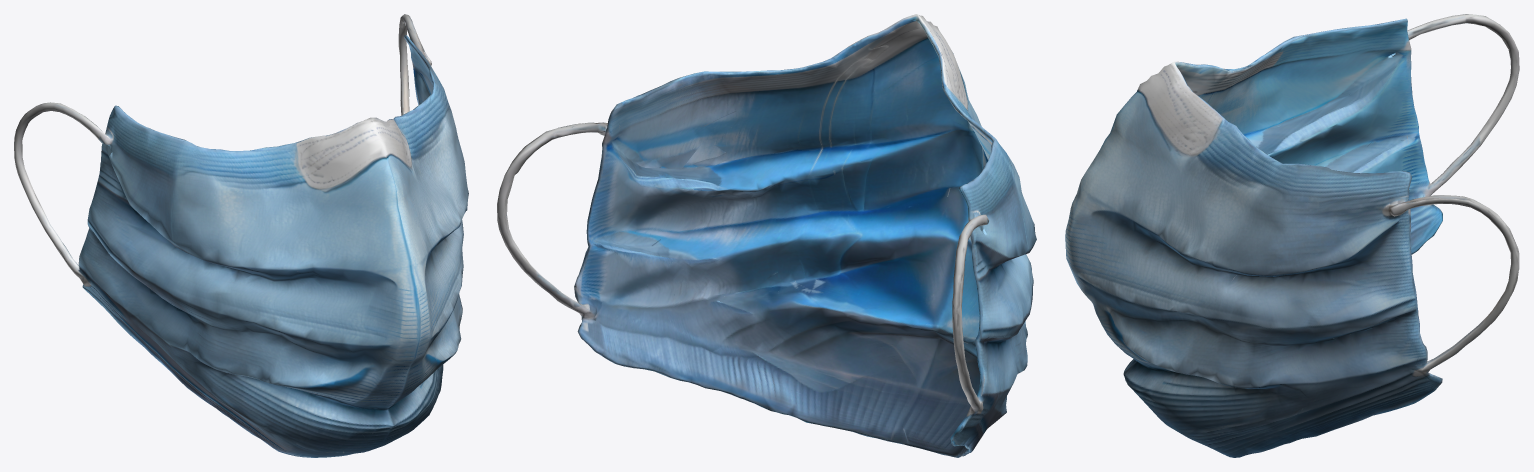
File: Meshy_AI__Hyperrealistic_3D_re_1225112828_texture.glb
3 views of the same model, side by side, from view 1: azimuth 30°, elevation 25°; view 2: azimuth 150°, elevation 25°; view 3: azimuth 270°, elevation 25° (orthographic). The views are drawn at different scales.
Size of the model in its own units: 2 by 1.71 by 1.87.
1 material, 1 textured.
